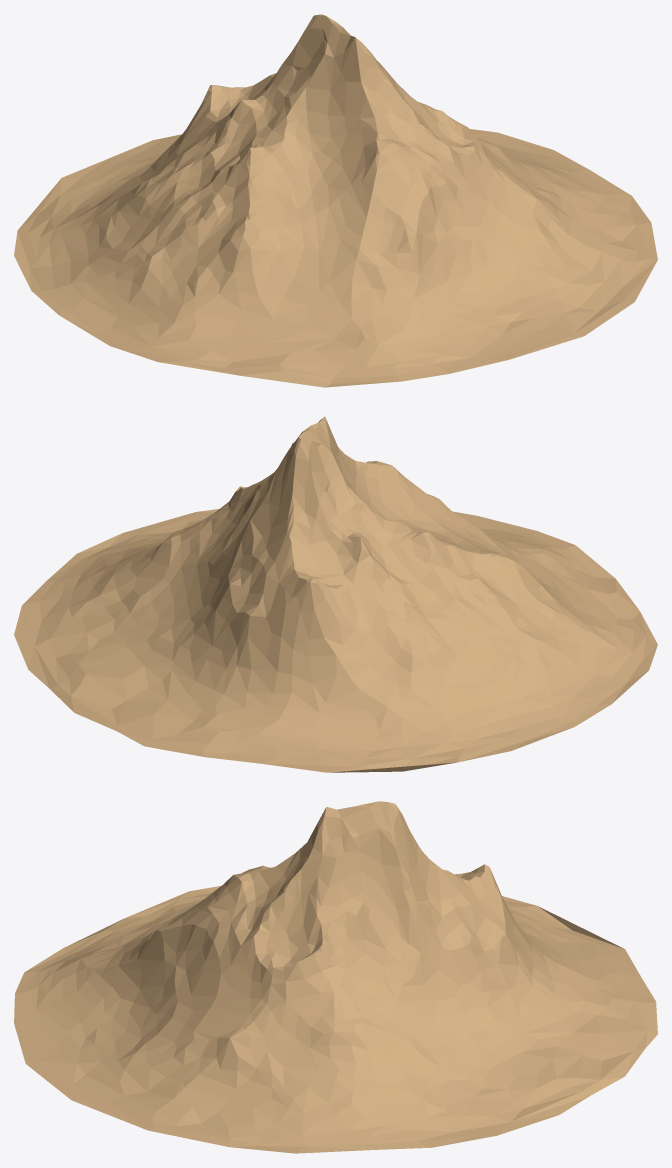
Rendered from MT_Mountain_L_d_06_LOD.fbx.
3 renders of one model, top to bottom at view 1: azimuth 30°, elevation 25°; view 2: azimuth 150°, elevation 25°; view 3: azimuth 270°, elevation 25°, orthographic. The views are drawn at different scales.
Visible parts, largest first — view 1: MT_Mountain_L_d_06_LOD0; view 2: MT_Mountain_L_d_06_LOD0; view 3: MT_Mountain_L_d_06_LOD0.
Boxes of the visible parts, x1,y1,x2,y2 form: MT_Mountain_L_d_06_LOD0: (14, 14, 657, 387); MT_Mountain_L_d_06_LOD0: (14, 416, 657, 772); MT_Mountain_L_d_06_LOD0: (14, 801, 657, 1153).
Size of what is drawn, in the model's own units: 9800 by 3742 by 9673.
